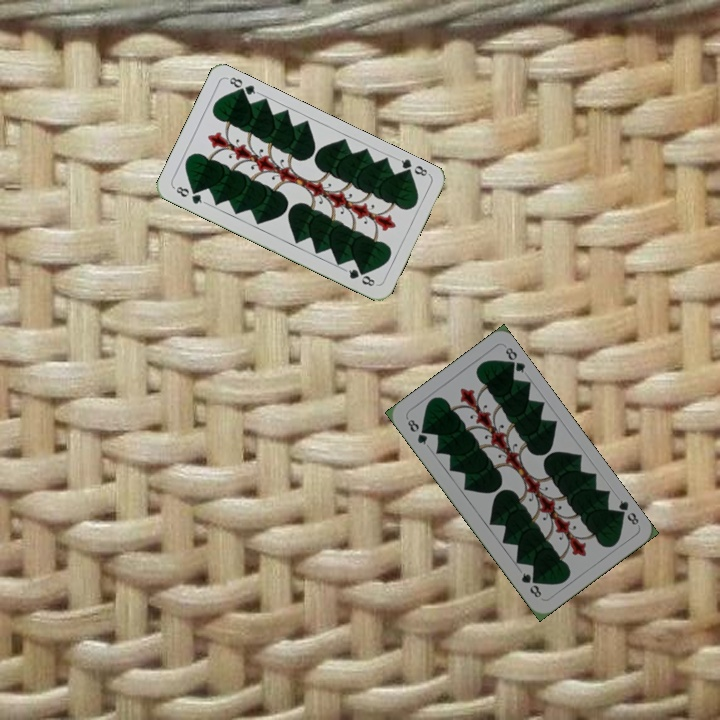G8: (393, 154, 432, 180), (170, 182, 208, 207), (612, 496, 641, 528), (403, 414, 430, 447)
